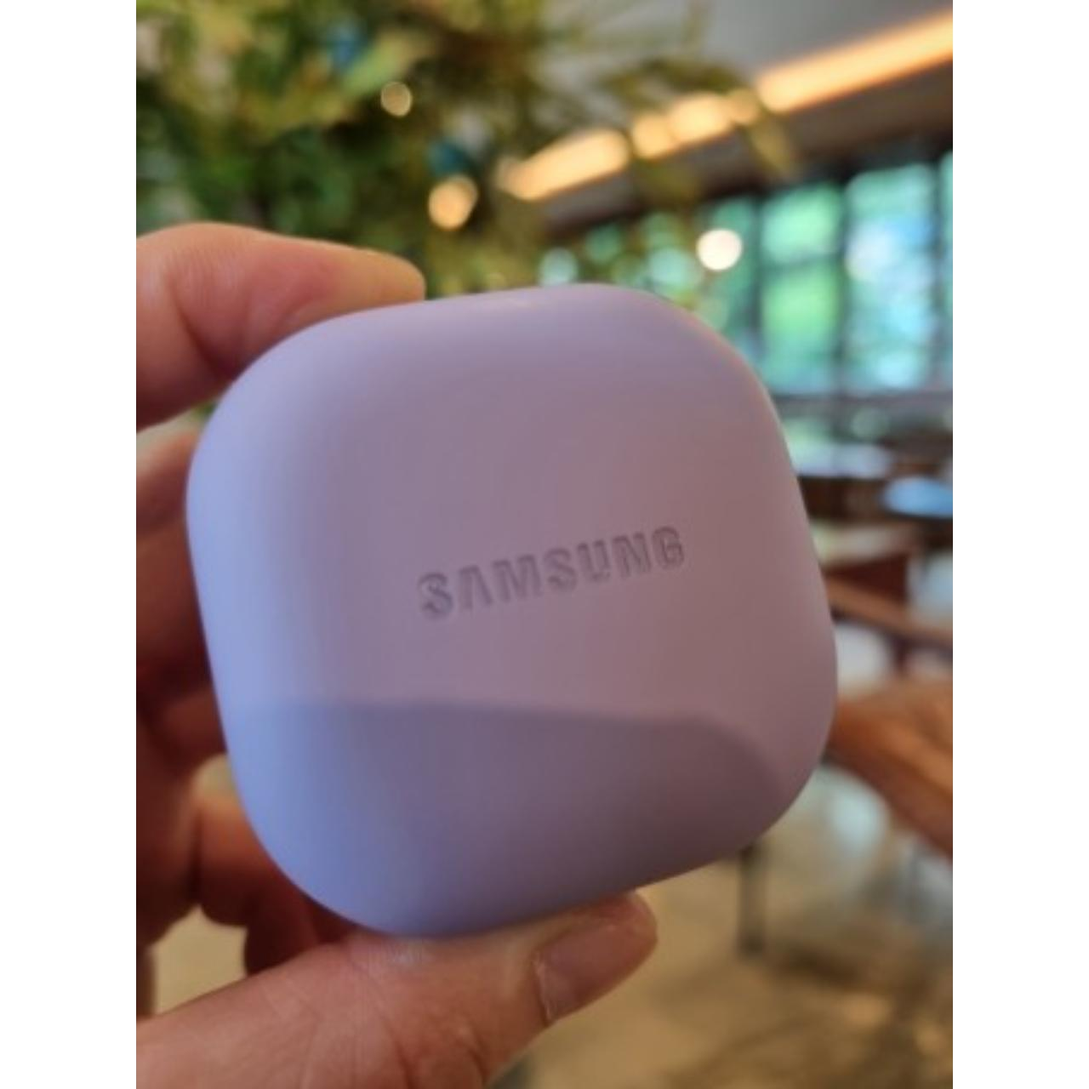Buds: (182, 277, 844, 940)
